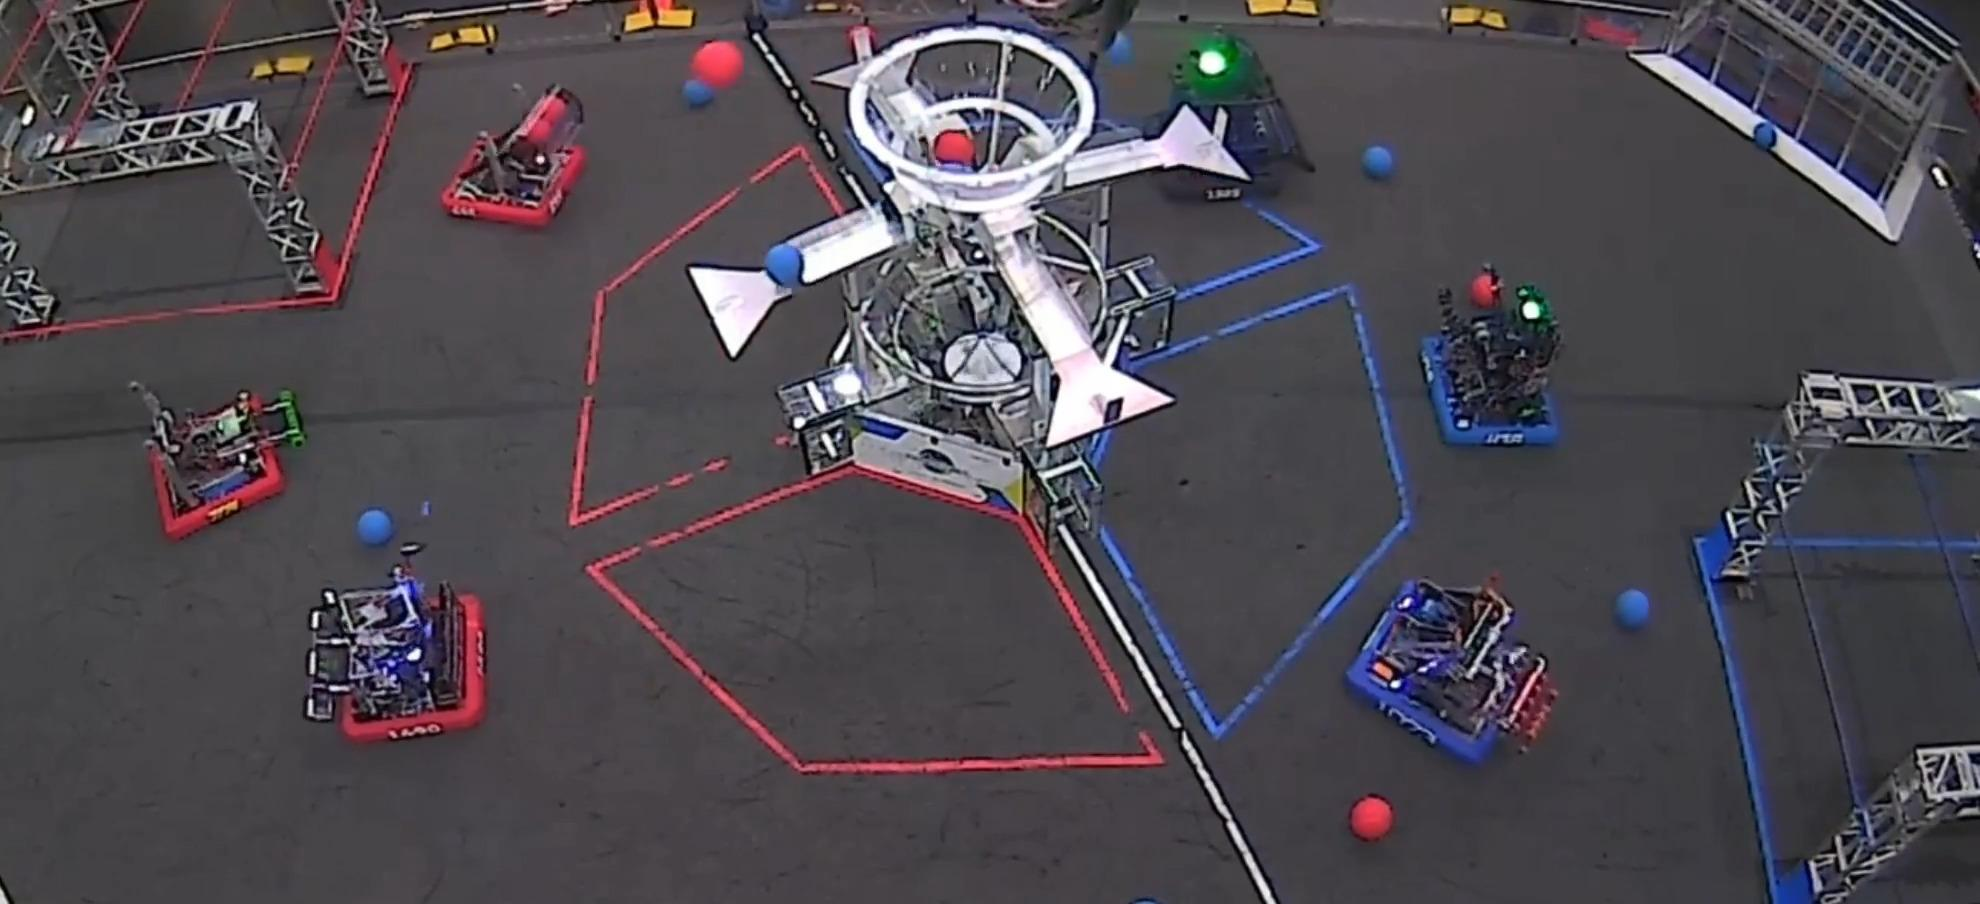Robots: (1347, 580, 1557, 763), (305, 543, 484, 741), (129, 382, 305, 539), (1158, 32, 1314, 201), (1422, 265, 1560, 445), (442, 86, 585, 227)
